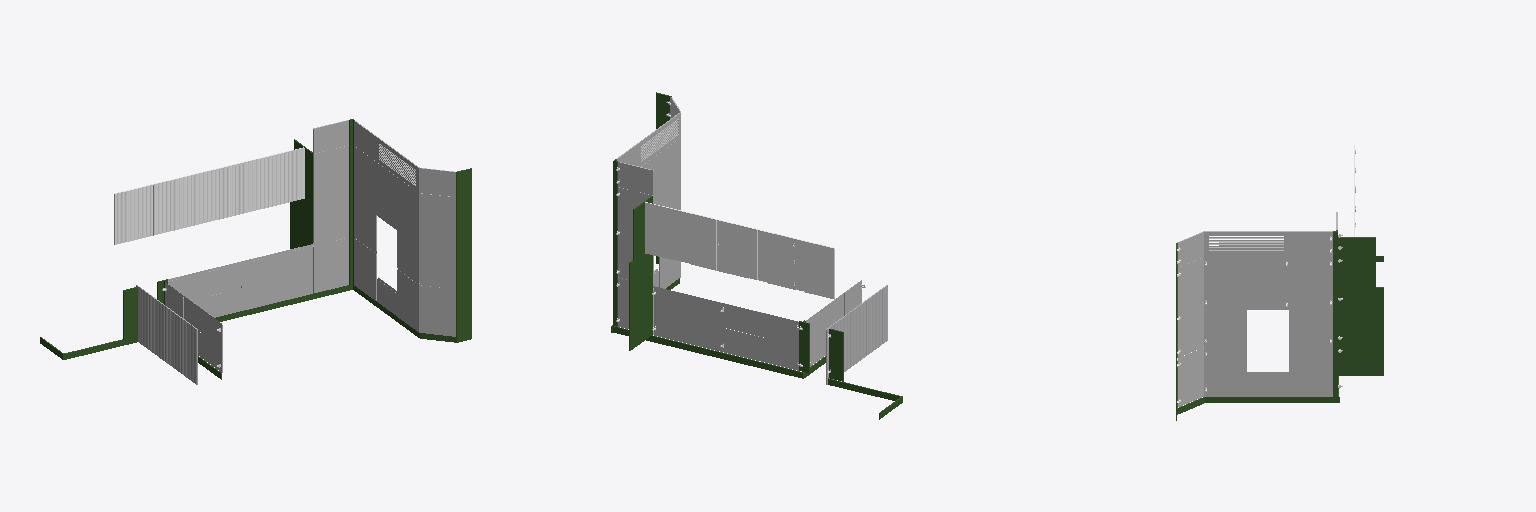
3 renders of one model, left to right at view 1: azimuth 30°, elevation 25°; view 2: azimuth 150°, elevation 25°; view 3: azimuth 270°, elevation 25°, orthographic.
Size of the model in its own units: 5458 by 2725 by 3004.
4 materials, 1 textured.